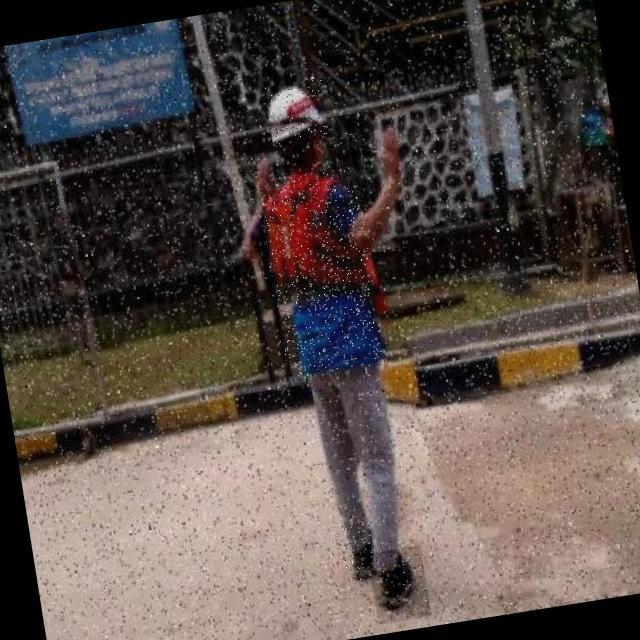Helmet: (264, 78, 333, 147)
Person: (223, 54, 449, 633)
Safety Boot: (367, 545, 432, 625), (336, 522, 381, 583)
Safety Vest: (258, 166, 389, 383)
bare-arms: (374, 120, 413, 195), (247, 150, 278, 212)
